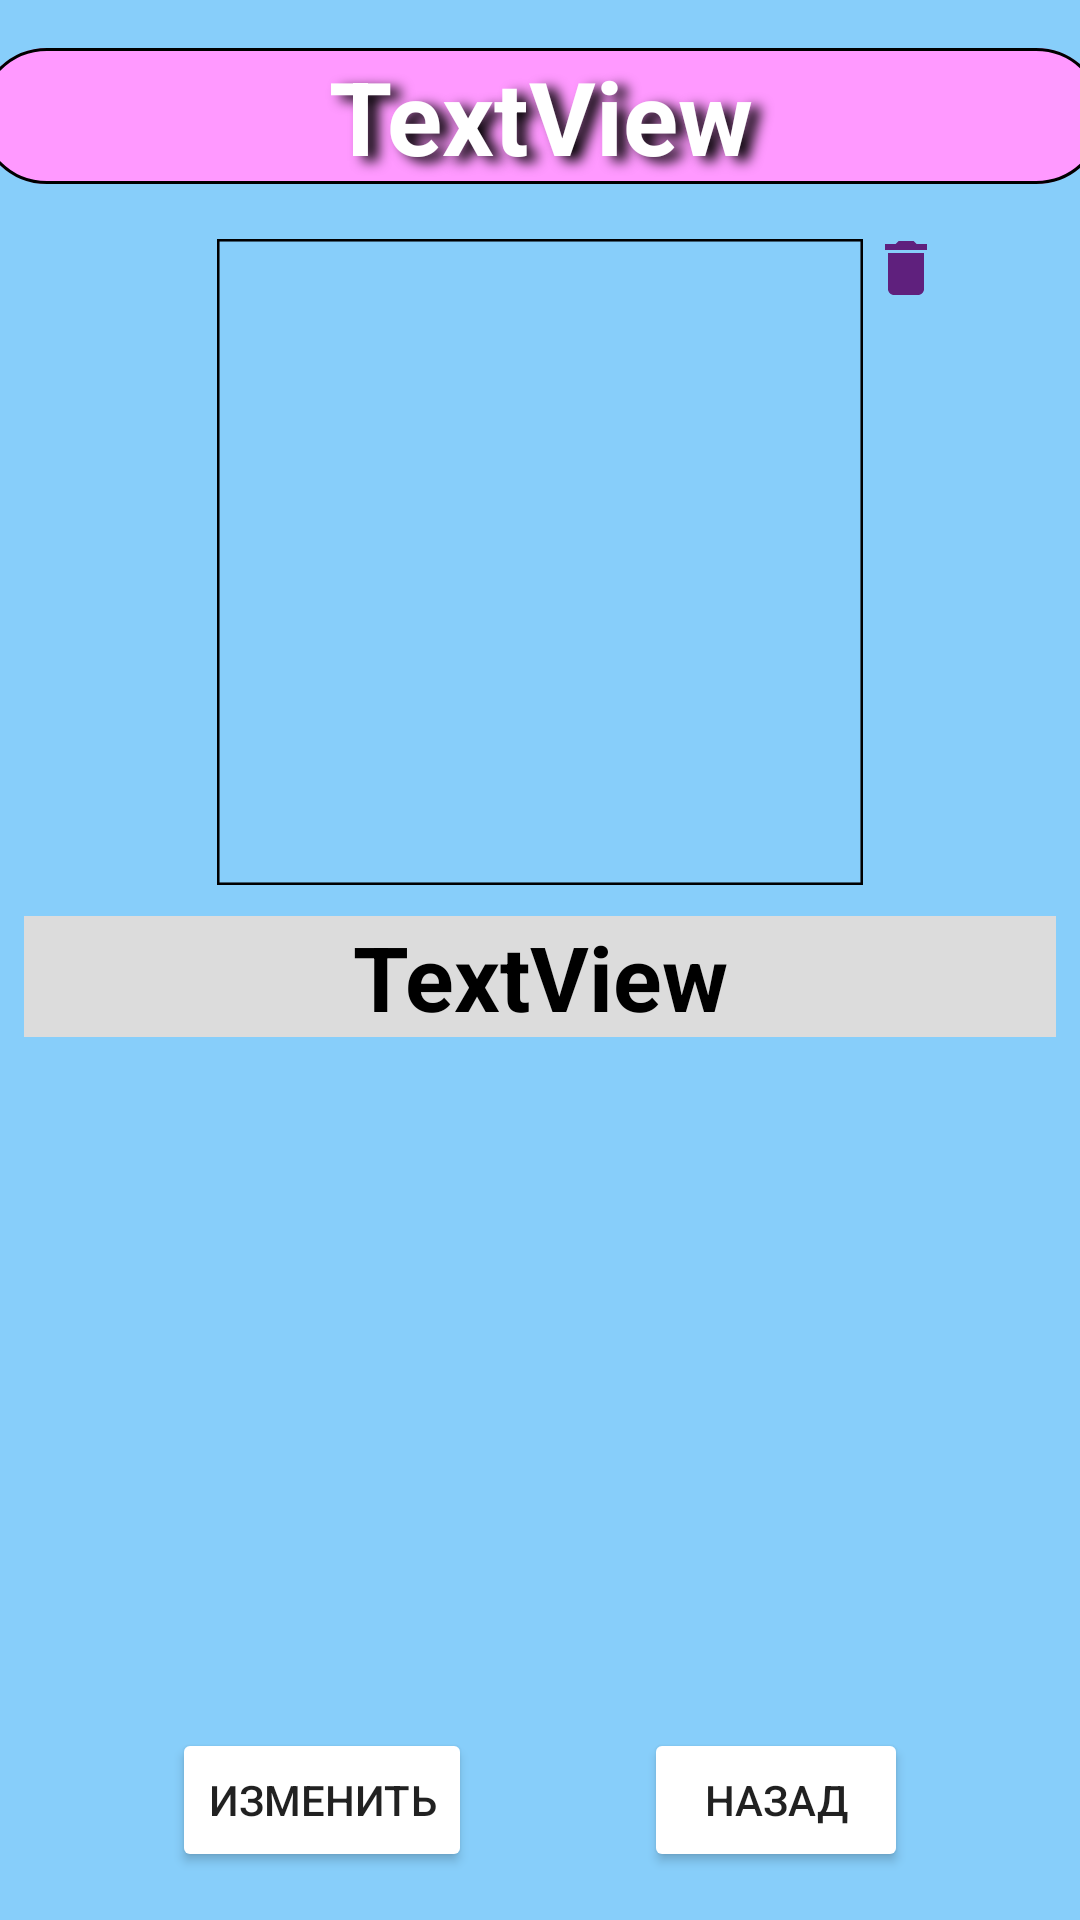

Screen size 1080w x 1920h. Icon name, then its center in pixels as point (x, y):
delete: point (906, 268)
